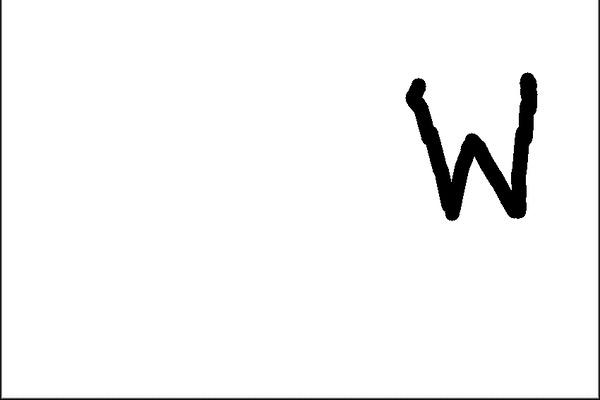w: (389, 51, 572, 245)
